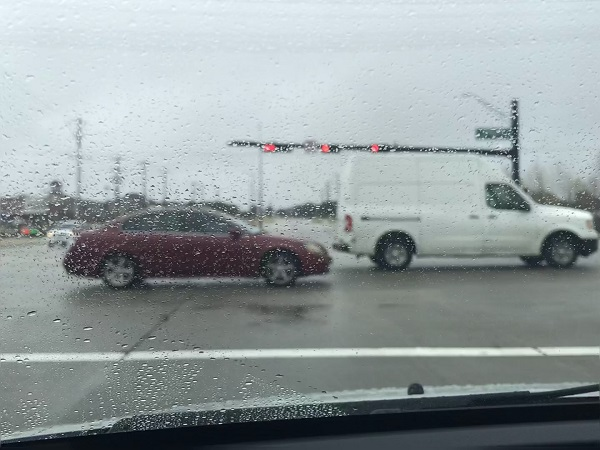car: (61, 201, 330, 290)
truck: (334, 155, 594, 268)
